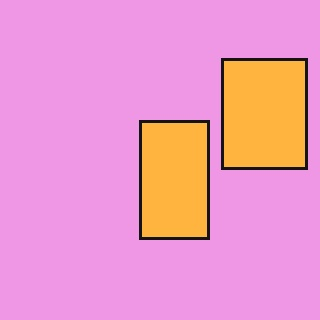square_target: (221, 59, 308, 169), (139, 121, 209, 240)
